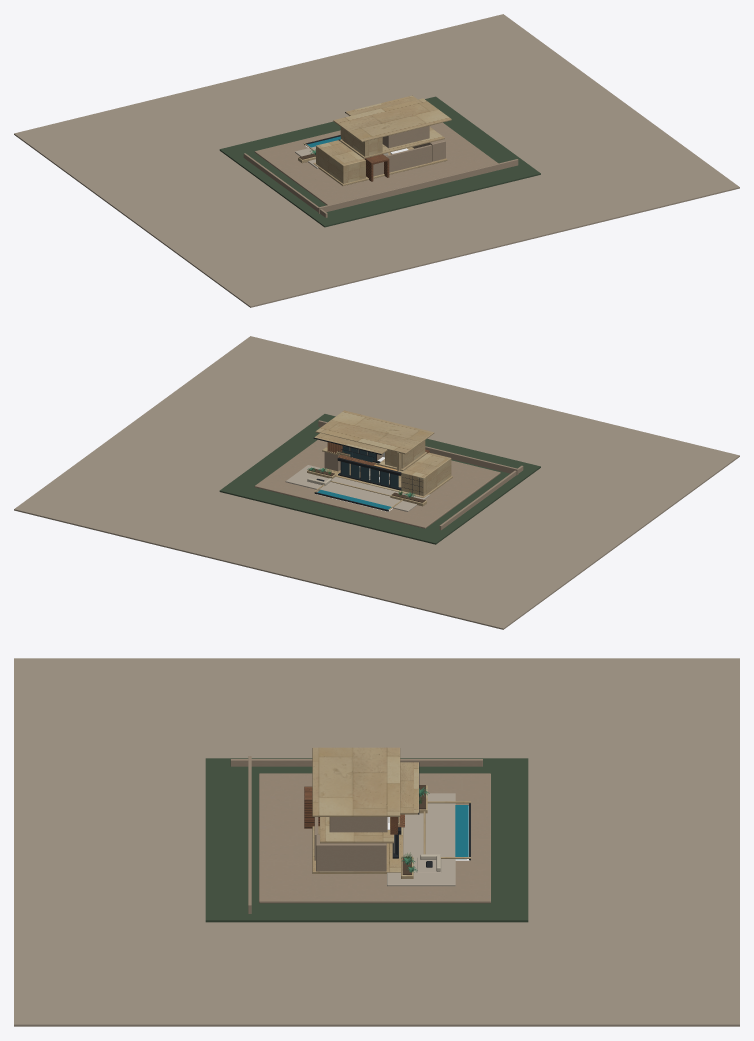
The model's file is villa-v0.2-hero.glb.
3 renders of one model, top to bottom at view 1: azimuth 30°, elevation 25°; view 2: azimuth 150°, elevation 25°; view 3: azimuth 270°, elevation 25°, orthographic. The views are drawn at different scales.
Parts seen in each view (by area): view 1: context_ground_r4, garden_field, site_plinth, roof_plane, ground_left_stone_core, rear_boundary_r4, ground_back_wall, upper_private_volume, upper_stone_spine, left_boundary_r4, upper_floor_slab; view 2: context_ground_r4, garden_field, site_plinth, roof_plane, terrace_deck, ground_left_stone_core, rear_boundary_r4, left_boundary_r4, upper_stone_spine; view 3: context_ground_r4, garden_field, site_plinth, roof_plane, terrace_deck, ground_right_private_core, left_boundary_r4, upper_floor_slab, signature_cantilever, upper_private_volume, ground_floor_slab, pool_water (+1 smaller).
Part boxes in pixels (x1=…): context_ground_r4: x1=14, y1=14, x2=739, y2=307; garden_field: x1=219, y1=96, x2=540, y2=227; site_plinth: x1=254, y1=122, x2=498, y2=205; roof_plane: x1=333, y1=98, x2=451, y2=142; ground_left_stone_core: x1=316, y1=140, x2=365, y2=183; rear_boundary_r4: x1=318, y1=159, x2=518, y2=213; ground_back_wall: x1=373, y1=144, x2=431, y2=176; upper_private_volume: x1=382, y1=126, x2=429, y2=148; upper_stone_spine: x1=342, y1=128, x2=382, y2=156; left_boundary_r4: x1=243, y1=153, x2=327, y2=217; upper_floor_slab: x1=339, y1=127, x2=444, y2=158; context_ground_r4: x1=14, y1=336, x2=739, y2=629; garden_field: x1=219, y1=414, x2=540, y2=544; site_plinth: x1=254, y1=440, x2=500, y2=528; roof_plane: x1=315, y1=410, x2=434, y2=454; terrace_deck: x1=285, y1=465, x2=430, y2=511; ground_left_stone_core: x1=401, y1=452, x2=451, y2=496; rear_boundary_r4: x1=318, y1=420, x2=518, y2=475; left_boundary_r4: x1=439, y1=465, x2=523, y2=530; upper_stone_spine: x1=385, y1=440, x2=425, y2=468; context_ground_r4: x1=14, y1=658, x2=739, y2=1026; garden_field: x1=205, y1=758, x2=528, y2=922; site_plinth: x1=259, y1=773, x2=490, y2=903; roof_plane: x1=312, y1=747, x2=400, y2=816; terrace_deck: x1=387, y1=793, x2=455, y2=886; ground_right_private_core: x1=316, y1=834, x2=386, y2=871; left_boundary_r4: x1=230, y1=759, x2=482, y2=766; upper_floor_slab: x1=320, y1=817, x2=393, y2=843; signature_cantilever: x1=400, y1=762, x2=418, y2=814; upper_private_volume: x1=329, y1=817, x2=387, y2=832; ground_floor_slab: x1=312, y1=826, x2=403, y2=873; pool_water: x1=455, y1=805, x2=468, y2=856.
Bounding box in the file's own units: 86 × 7.53 × 72.
23 materials, 4 textured.
